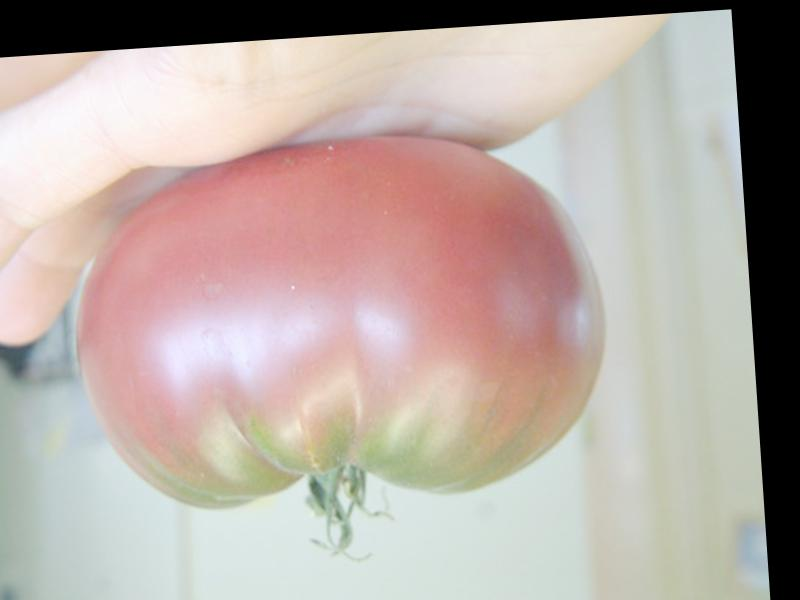Tomato: (64, 122, 615, 519)
